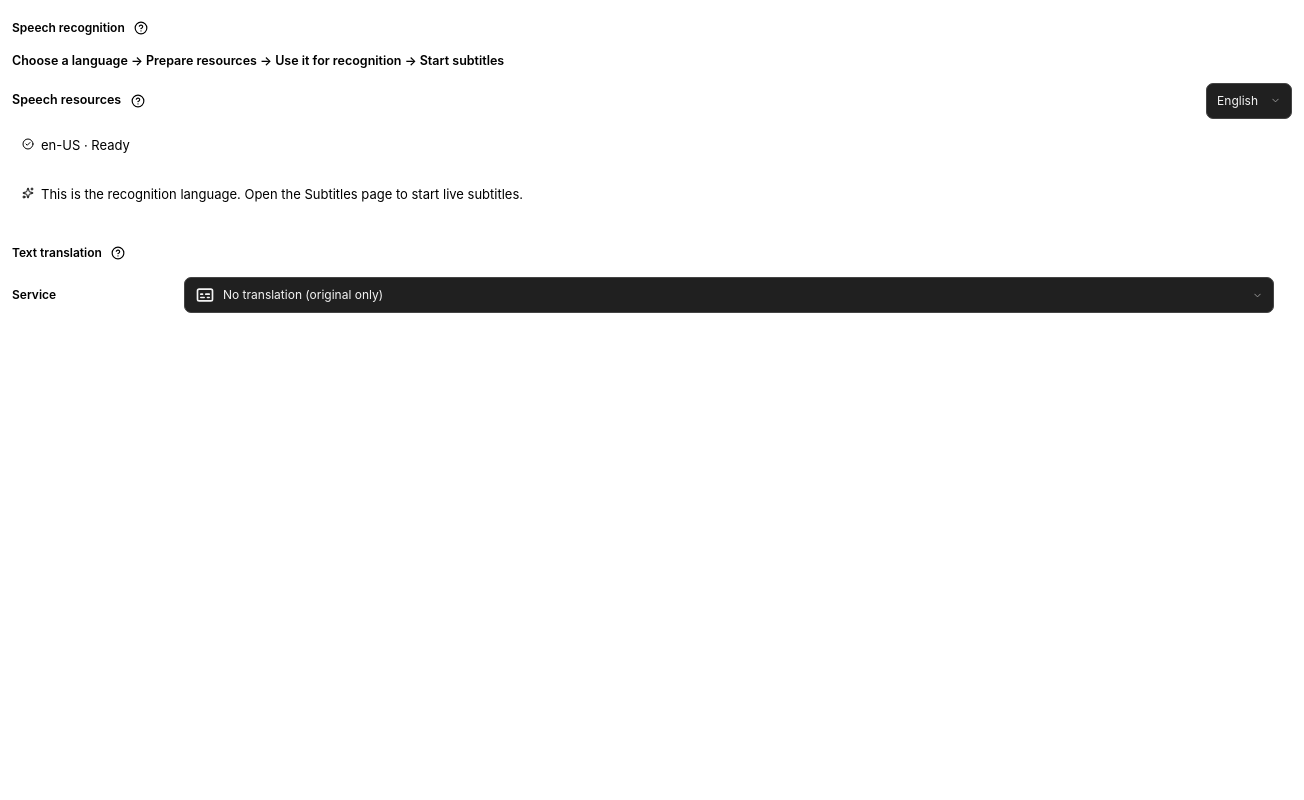
Test: shows only safe retryable feedback for apple_speech_assets_missing
The image size is (1304, 800).
Click the dropdown labelled "English" at x=1249, y=101, box [1206,83,1292,119]
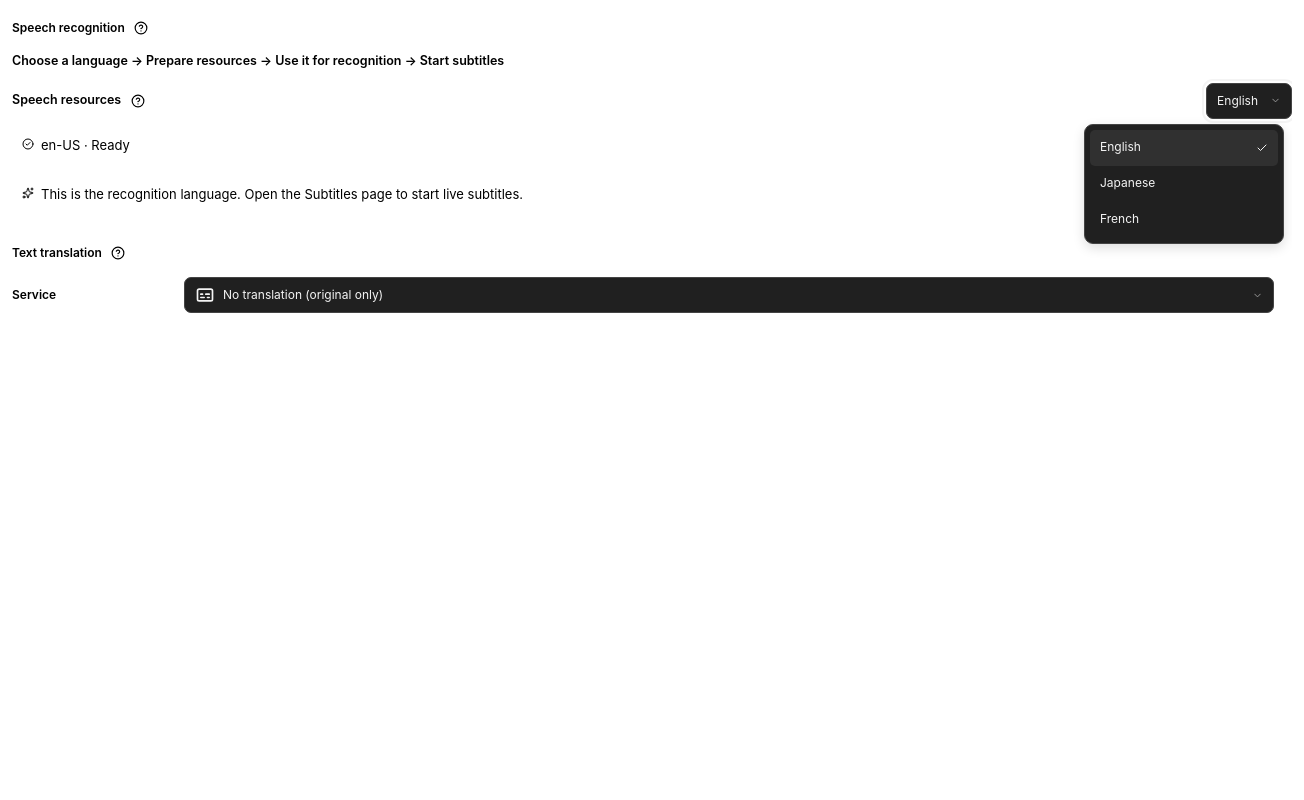
Click the option "Japanese" at x=1128, y=183, box [1100,175,1155,190]
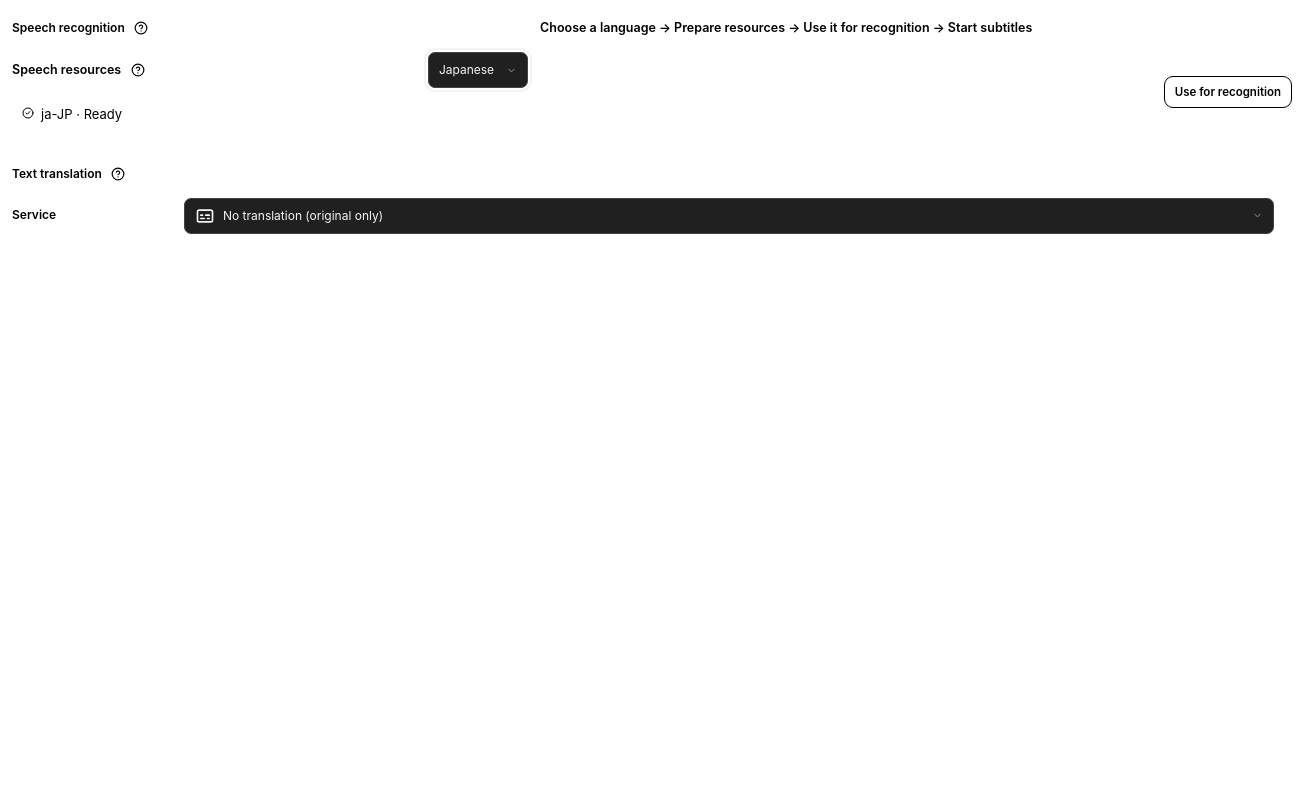
Click the button "Use for recognition" at x=1228, y=92, box [1164,76,1292,108]
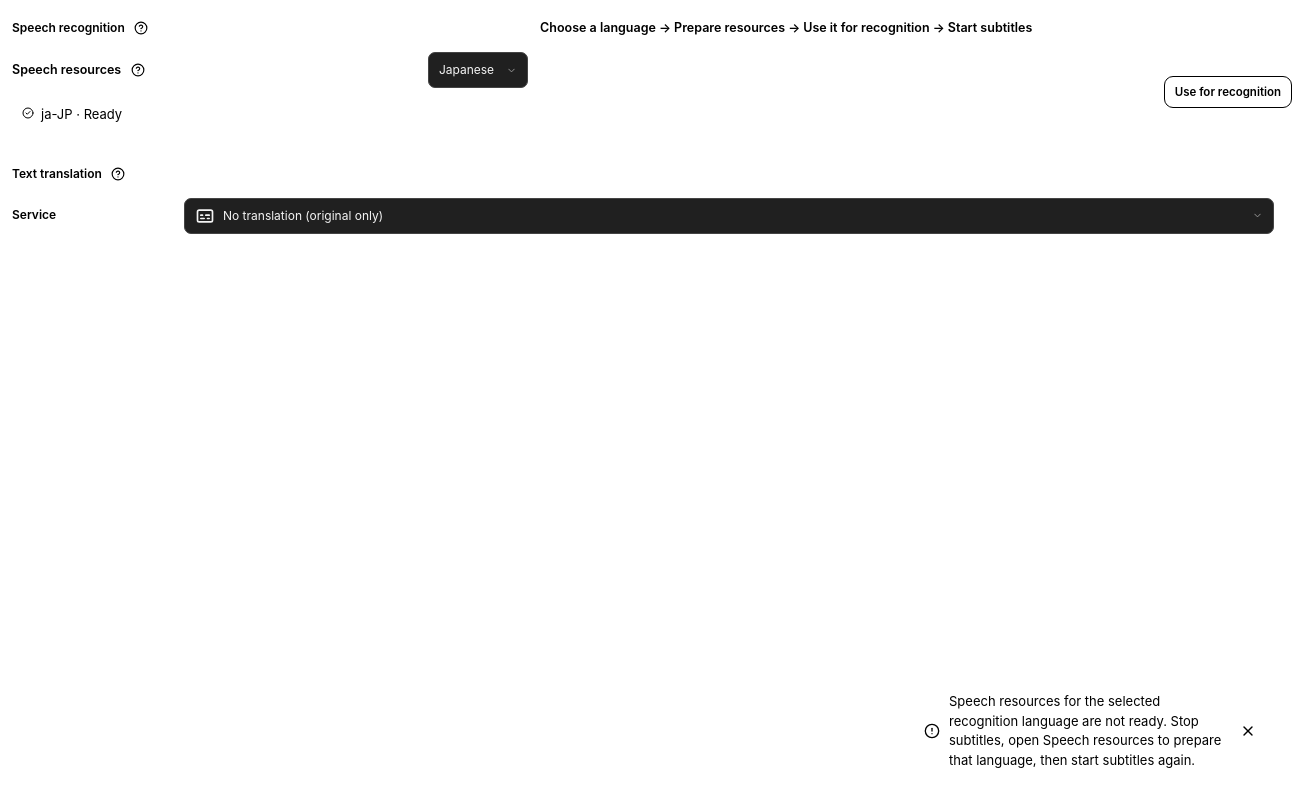
Expected: the button "Use for recognition" is enabled, [1164,76,1292,108]
Expected: the text "Speech resources for the selected recognition language are not ready. Stop subtitles, open Speech resources to prepare that language, then start subtitles again" is shown, [949,693,1221,768]
